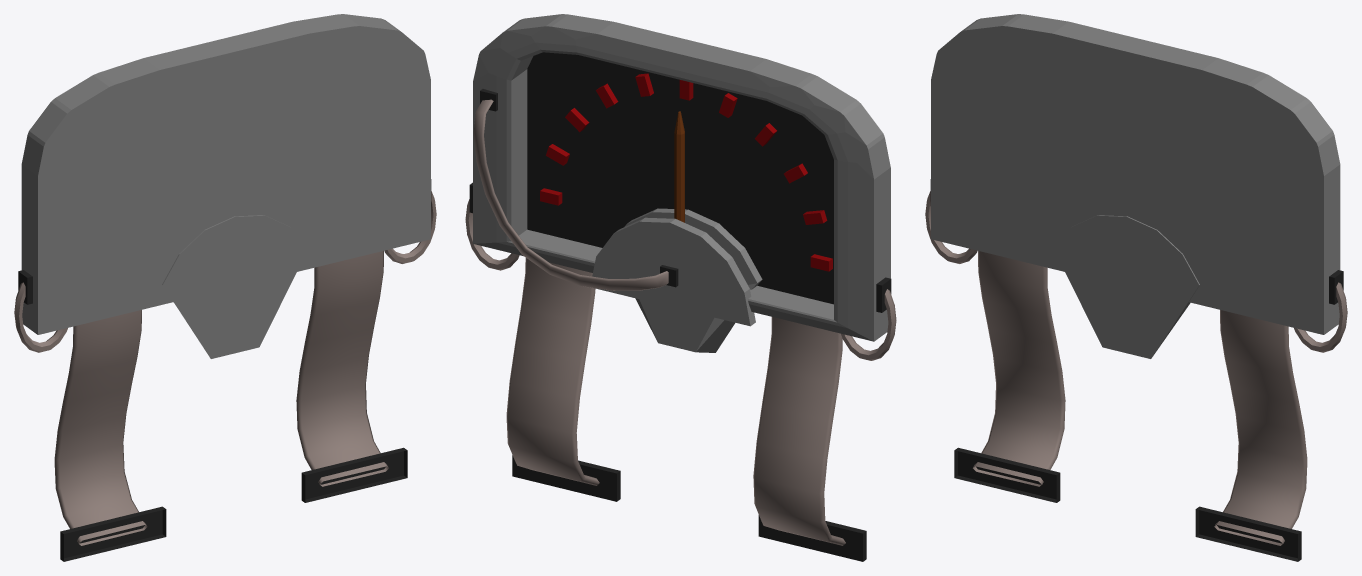
Rendered from EnergyTable.fbx.
3 views of the same model, side by side, from view 1: azimuth 30°, elevation 25°; view 2: azimuth 150°, elevation 25°; view 3: azimuth 330°, elevation 25° (orthographic). The views are drawn at different scales.
Parts seen in each view (by area): view 1: Cube, BézierCurve.001, Cylinder, Torus; view 2: Cube, BézierCurve.001, Cylinder, Cube.002, Cube.001, Torus, Cylinder.001; view 3: Cube, BézierCurve.001, Cylinder, Torus.
Part boxes in pixels (bbox=[...]): Cube: bbox=[21, 14, 430, 334]; BézierCurve.001: bbox=[54, 251, 407, 561]; Cylinder: bbox=[162, 215, 307, 358]; Torus: bbox=[14, 179, 436, 352]; Cube: bbox=[473, 14, 890, 341]; BézierCurve.001: bbox=[506, 258, 866, 561]; Cylinder: bbox=[592, 208, 762, 352]; Cube.002: bbox=[473, 89, 678, 290]; Cube.001: bbox=[540, 73, 832, 271]; Torus: bbox=[465, 182, 896, 360]; Cylinder.001: bbox=[674, 111, 684, 222]; Cube: bbox=[931, 14, 1340, 334]; BézierCurve.001: bbox=[954, 251, 1307, 561]; Cylinder: bbox=[1054, 215, 1199, 358]; Torus: bbox=[925, 179, 1347, 352].
Bounding box in the file's own units: 268 × 284 × 34.76.
